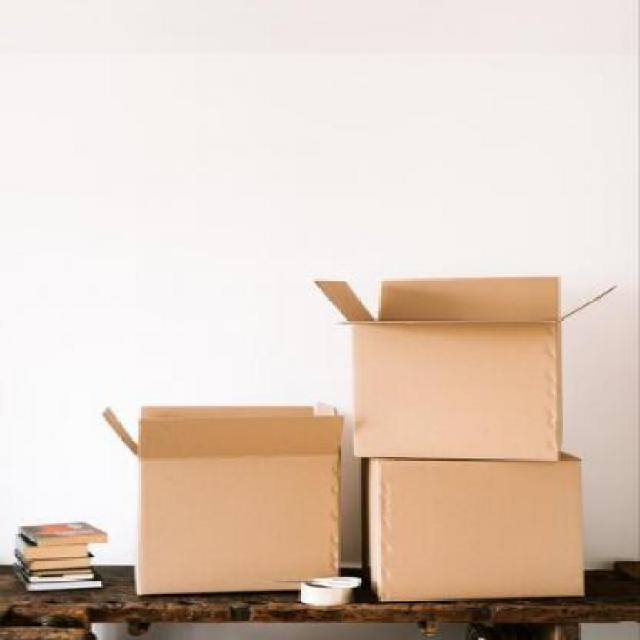box: (320, 277, 603, 469), (117, 407, 342, 597), (362, 444, 583, 602)
